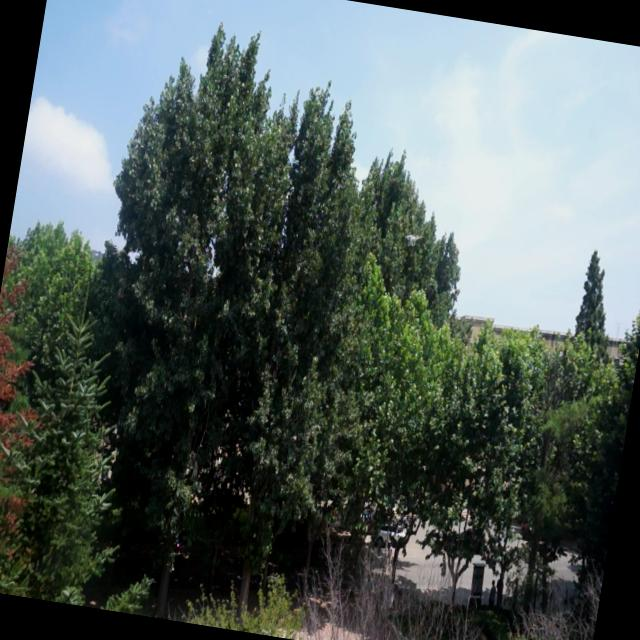drone: (402, 228, 424, 255)
